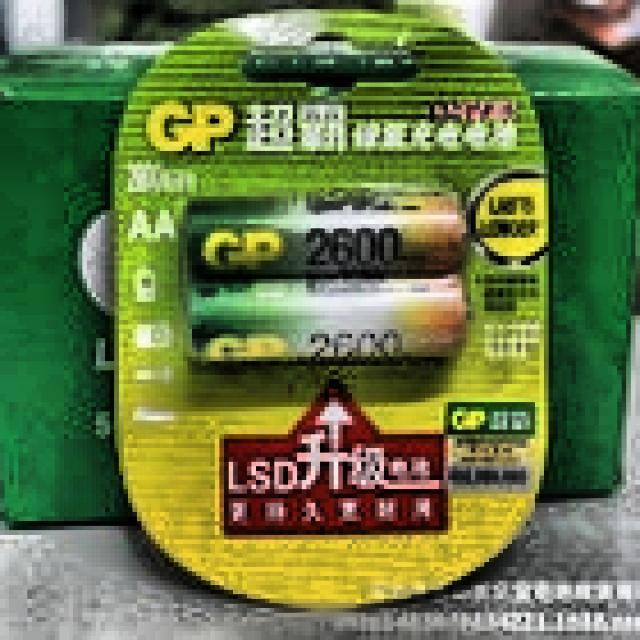battery: (185, 194, 465, 361)
